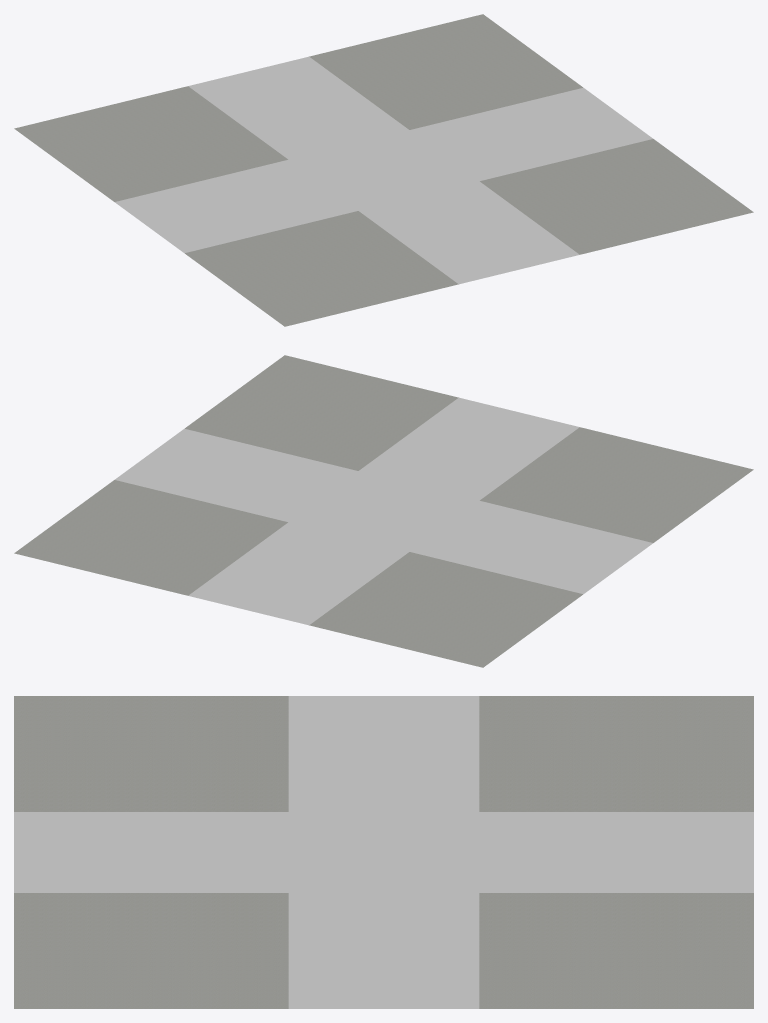
File: floor.obj
3 renders of one model, top to bottom at view 1: azimuth 30°, elevation 25°; view 2: azimuth 150°, elevation 25°; view 3: azimuth 270°, elevation 25°, orthographic. The views are drawn at different scales.
Parts seen in each view (by area): view 1: Plane003, Plane002, Plane001, Plane004, planeLong003, planeLong004, planeLong001, planeLong002, Plane006; view 2: Plane003, Plane002, Plane001, Plane004, planeLong003, planeLong004, planeLong001, planeLong002, Plane006; view 3: Plane003, Plane002, Plane001, Plane004, planeLong001, planeLong002, planeLong003, planeLong004, Plane006.
Boxes of the visible parts, x1=… form: Plane003: x1=185, y1=211, x2=458, y2=326; Plane002: x1=480, y1=139, x2=753, y2=254; Plane001: x1=309, y1=14, x2=582, y2=129; Plane004: x1=14, y1=86, x2=287, y2=201; planeLong003: x1=410, y1=87, x2=653, y2=181; planeLong004: x1=114, y1=159, x2=357, y2=253; planeLong001: x1=188, y1=56, x2=409, y2=159; planeLong002: x1=358, y1=181, x2=579, y2=284; Plane006: x1=289, y1=130, x2=478, y2=210; Plane003: x1=480, y1=427, x2=753, y2=542; Plane002: x1=185, y1=355, x2=458, y2=470; Plane001: x1=14, y1=480, x2=287, y2=595; Plane004: x1=309, y1=552, x2=582, y2=667; planeLong003: x1=114, y1=428, x2=357, y2=522; planeLong004: x1=410, y1=500, x2=653, y2=594; planeLong001: x1=188, y1=522, x2=409, y2=625; planeLong002: x1=358, y1=397, x2=579, y2=500; Plane006: x1=289, y1=471, x2=478, y2=551; Plane003: x1=14, y1=696, x2=288, y2=811; Plane002: x1=14, y1=893, x2=288, y2=1008; Plane001: x1=479, y1=893, x2=753, y2=1008; Plane004: x1=479, y1=696, x2=753, y2=811; planeLong001: x1=479, y1=812, x2=753, y2=892; planeLong002: x1=14, y1=812, x2=288, y2=892; planeLong003: x1=288, y1=893, x2=479, y2=1008; planeLong004: x1=288, y1=696, x2=479, y2=811; Plane006: x1=288, y1=812, x2=479, y2=892.
Bounding box in the file's own units: 7.75 × 0 × 7.75.
